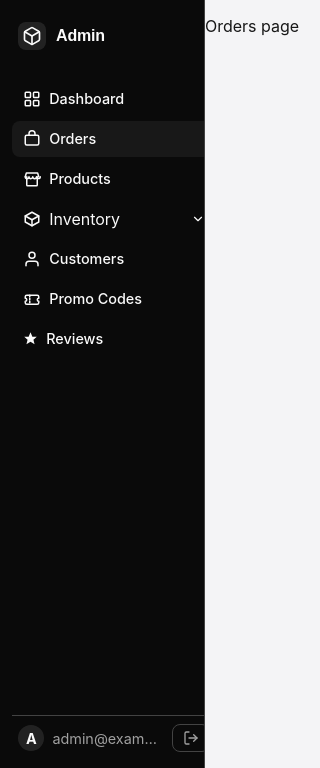
it: expands and collapses the Inventory group on click
Expected: the text "admin@example.com" is shown, [52,730,164,746]
Click the button "Inventory" at coordinates (114, 219), box [12,201,216,237]
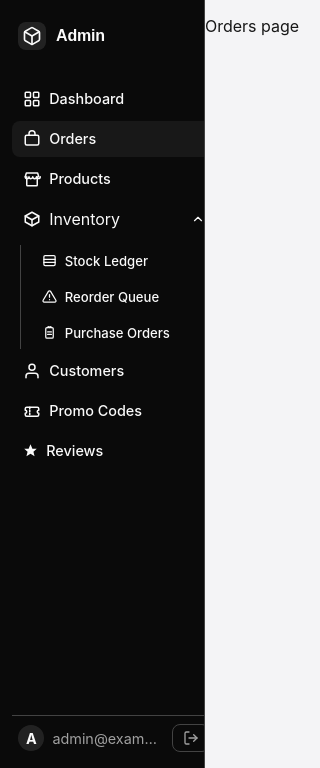
Expected: the link "Stock Ledger" is shown, [42,253,148,269]
Click the button "Inventory" at coordinates (114, 219), box [12,201,216,237]
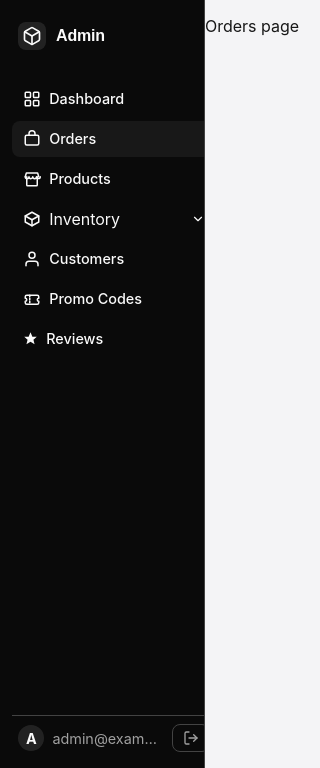
Expected: the link "Stock Ledger" is gone
